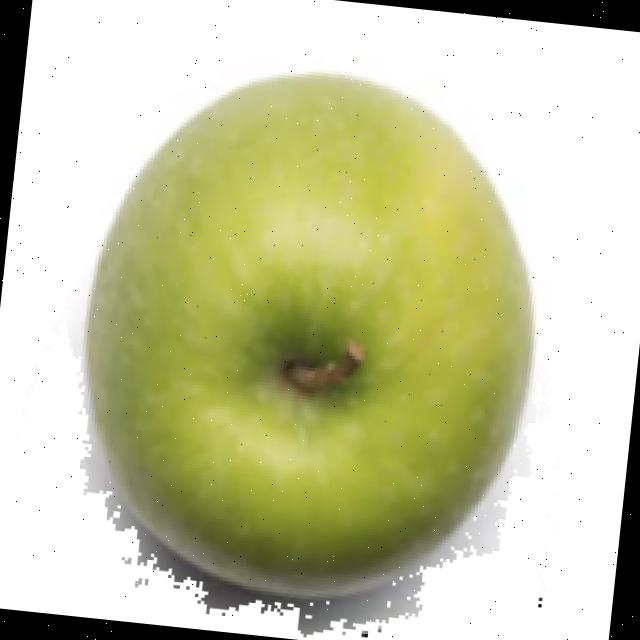apple: (53, 65, 549, 637)
